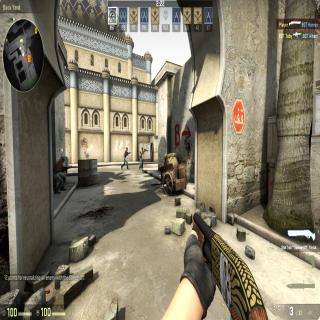T-Body: (53, 155, 66, 194), (123, 146, 128, 170), (139, 147, 143, 169)
T-Head: (60, 155, 65, 163), (126, 147, 128, 151), (141, 147, 143, 150)
